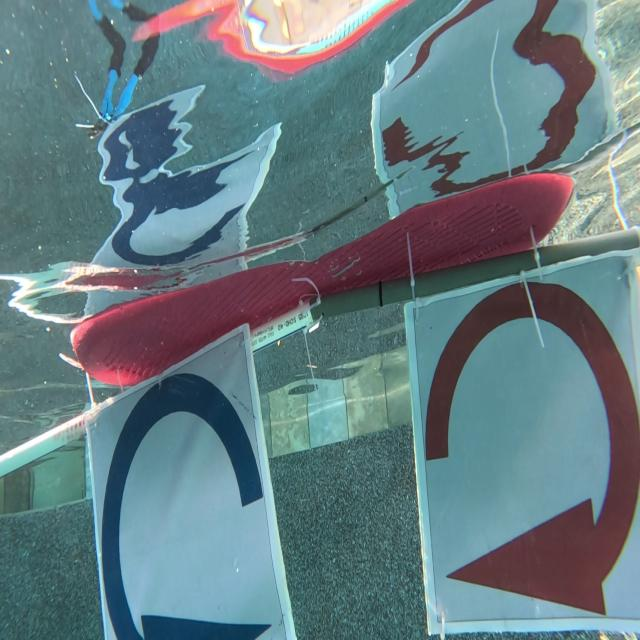blue_side: (98, 360, 269, 640)
red_side: (427, 280, 640, 640)
